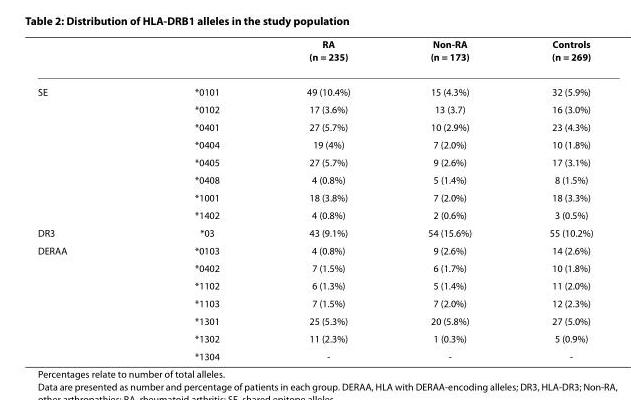table: (36, 37, 592, 361)
table column: (130, 37, 262, 361), (262, 37, 388, 361), (388, 37, 509, 361), (36, 37, 130, 361), (509, 37, 592, 361)
table column header: (36, 37, 592, 73)
table row: (36, 37, 592, 73), (36, 73, 592, 99), (36, 99, 592, 117), (36, 117, 592, 135), (36, 152, 592, 170), (36, 170, 592, 188), (36, 205, 592, 223), (36, 223, 592, 241), (36, 258, 592, 276), (36, 293, 592, 311), (36, 311, 592, 329), (36, 135, 592, 152), (36, 188, 592, 205), (36, 241, 592, 258), (36, 276, 592, 293), (36, 329, 592, 346), (36, 346, 592, 361)
table spanning cell: (36, 73, 130, 223), (36, 241, 130, 361)
